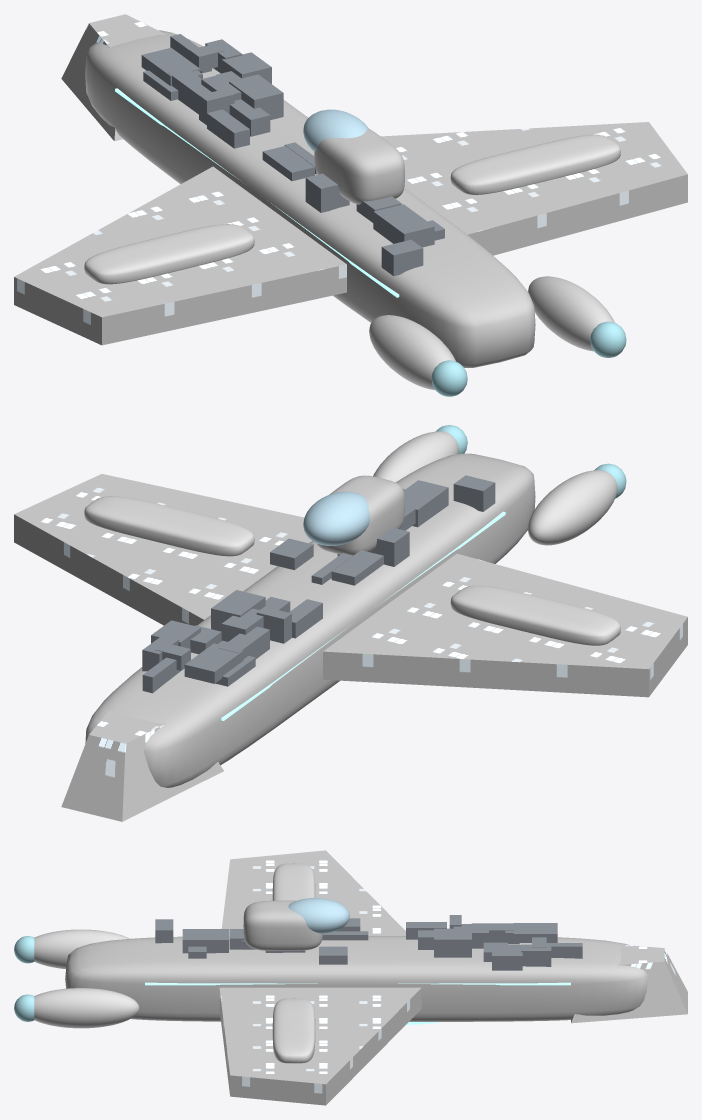
File: Flug_Kreuzer.fbx
The picture shows the model from 3 angles, top to bottom: view 1: azimuth 30°, elevation 25°; view 2: azimuth 150°, elevation 25°; view 3: azimuth 270°, elevation 25°; orthographic projection. The views are drawn at different scales.
Visible parts, largest first — view 1: Flug_Kreuzer; view 2: Flug_Kreuzer; view 3: Flug_Kreuzer.
Boxes of the visible parts, x1,y1,x2,y2 form: Flug_Kreuzer: [14, 14, 687, 396]; Flug_Kreuzer: [14, 425, 687, 821]; Flug_Kreuzer: [14, 850, 687, 1105].
Size of the model in its own units: 10400 by 2450 by 12660.
